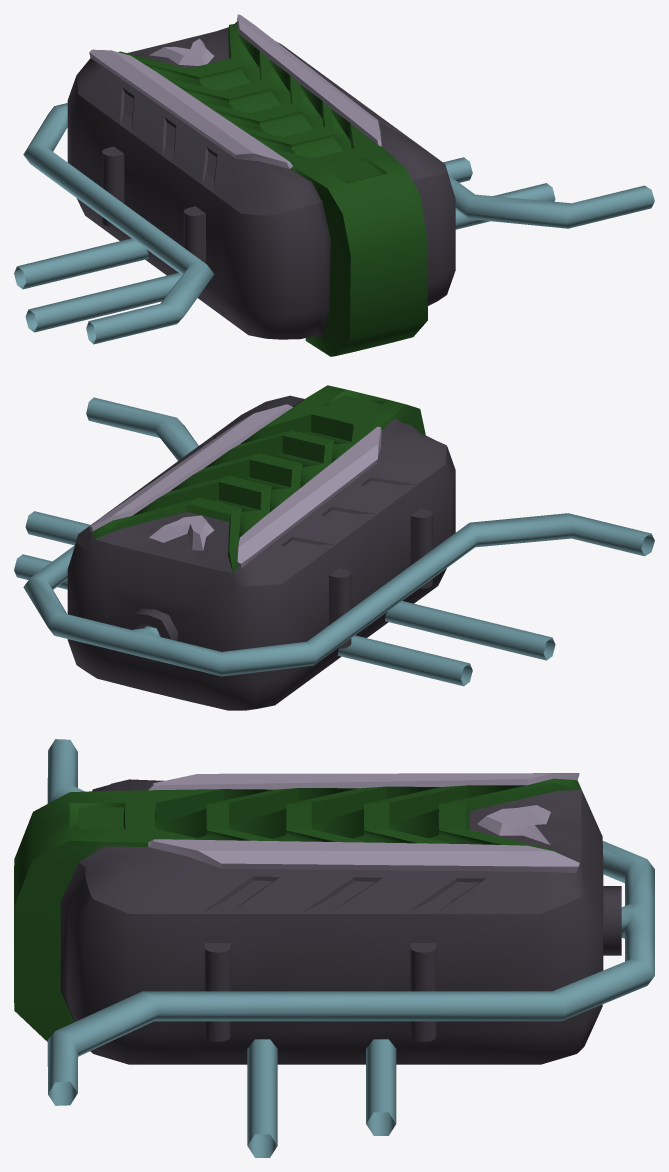
Rendered from Back_Engine.fbx.
3 renders of one model, top to bottom at view 1: azimuth 30°, elevation 25°; view 2: azimuth 150°, elevation 25°; view 3: azimuth 270°, elevation 25°, orthographic. The views are drawn at different scales.
Parts seen in each view (by area): view 1: Back_Engine; view 2: Back_Engine; view 3: Back_Engine.
Part boxes in pixels (x1,y1,x2,y2): Back_Engine: (14,14,654,356); Back_Engine: (14,385,654,710); Back_Engine: (14,739,654,1157).
Bounding box in the file's own units: 72.19 × 21.2 × 56.9.
